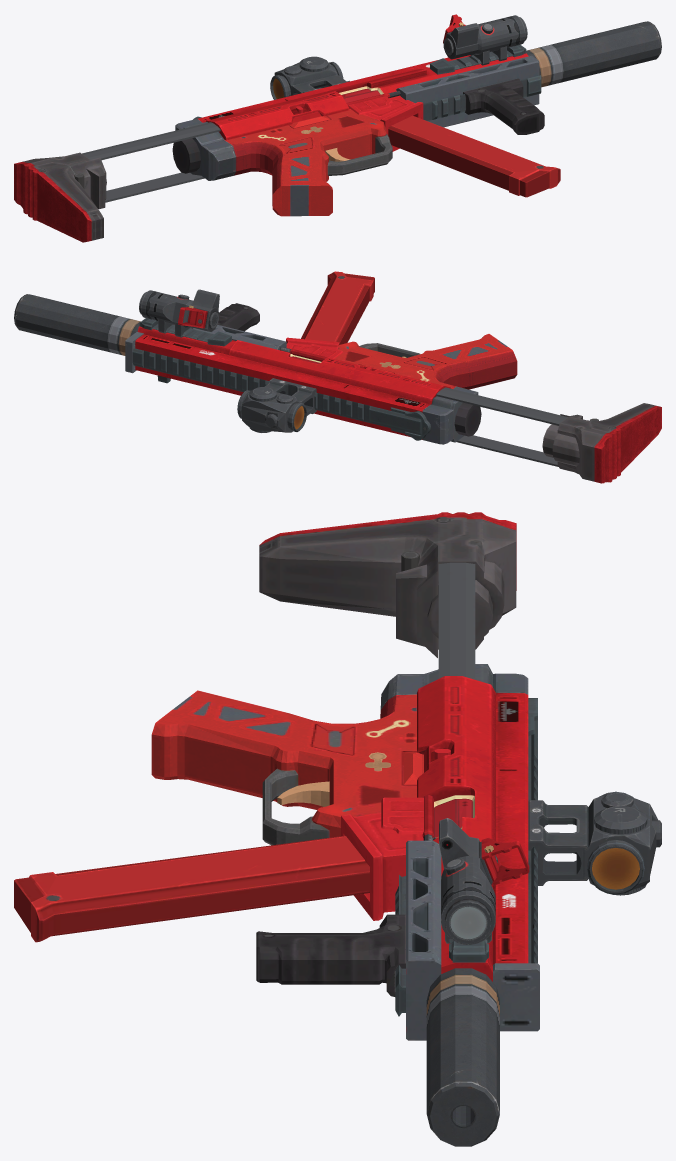
The picture shows the model from 3 angles, top to bottom: view 1: azimuth 30°, elevation 25°; view 2: azimuth 150°, elevation 25°; view 3: azimuth 270°, elevation 25°; orthographic projection. The views are drawn at different scales.
Visible parts, largest first — view 1: wp01b_a001a_sm.mo, wp01b_magazine001a_sm.mo, wp01b_muzzle001a_sm.mo, wp01b_attach001a_sm.mo, wp01b_scope001a_sm.mo; view 2: wp01b_a001a_sm.mo, wp01b_muzzle001a_sm.mo, wp01b_magazine001a_sm.mo, wp01b_scope001a_sm.mo, wp01b_attach001a_sm.mo; view 3: wp01b_a001a_sm.mo, wp01b_magazine001a_sm.mo, wp01b_muzzle001a_sm.mo, wp01b_scope001a_sm.mo, wp01b_attach001a_sm.mo.
Boxes of the visible parts, x1=… form: wp01b_a001a_sm.mo: x1=14, y1=44, x2=544, y2=242; wp01b_magazine001a_sm.mo: x1=388, y1=115, x2=560, y2=197; wp01b_muzzle001a_sm.mo: x1=526, y1=21, x2=661, y2=87; wp01b_attach001a_sm.mo: x1=443, y1=14, x2=527, y2=65; wp01b_scope001a_sm.mo: x1=270, y1=56, x2=349, y2=99; wp01b_a001a_sm.mo: x1=125, y1=303, x2=661, y2=483; wp01b_muzzle001a_sm.mo: x1=14, y1=294, x2=140, y2=355; wp01b_magazine001a_sm.mo: x1=301, y1=271, x2=374, y2=344; wp01b_scope001a_sm.mo: x1=237, y1=378, x2=316, y2=432; wp01b_attach001a_sm.mo: x1=139, y1=289, x2=219, y2=337; wp01b_a001a_sm.mo: x1=151, y1=512, x2=539, y2=1040; wp01b_magazine001a_sm.mo: x1=14, y1=835, x2=369, y2=942; wp01b_muzzle001a_sm.mo: x1=426, y1=968, x2=499, y2=1146; wp01b_scope001a_sm.mo: x1=528, y1=791, x2=661, y2=895; wp01b_attach001a_sm.mo: x1=439, y1=818, x2=529, y2=944.
Size of the model in its own units: 0.583 by 0.0815 by 0.2851.
5 materials, 5 textured.
